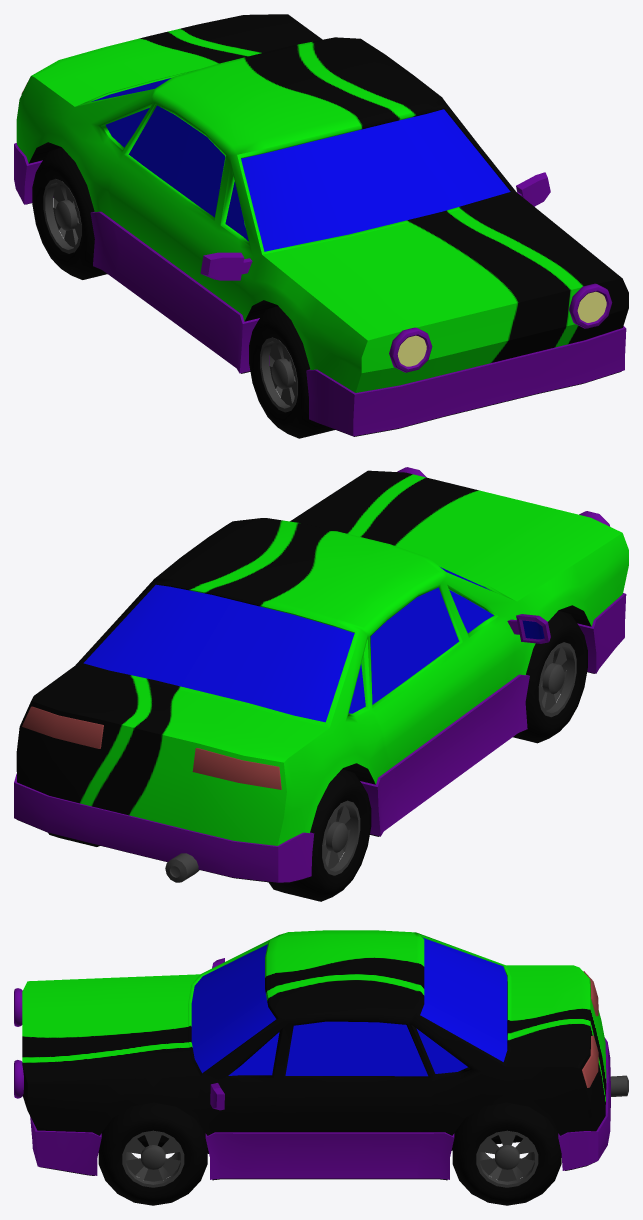
File: Muscle Evolution1 Purple WaveBlackGreen Blue DarkGrey.glb
The picture shows the model from 3 angles, top to bottom: view 1: azimuth 30°, elevation 25°; view 2: azimuth 150°, elevation 25°; view 3: azimuth 270°, elevation 25°; orthographic projection. The views are drawn at different scales.
Visible parts, largest first — view 1: evo1_body4_f1_dupl, evo1_sill0_f1_dupl, evo1_frontGlass_f1_dupl, evo1_glasseBigR_f1_dupl, evo1_tire_rf_f1_dupl, evo1_tire_rf1_f1_dupl, evo1_rim_A_rb_f1_dupl, evo1_rim_A_rf_f1_dupl, evo1_mirorR3_f1_dupl, evo1_blockLightR_f1_dupl, evo1_blockLightL_f1_dupl, evo1_mirorL3_f1_dupl (+4 smaller); view 2: evo1_body4_f1_dupl, evo1_sill0_f1_dupl, evo1_BackGlassGlass_f1_dupl, evo1_glasseBigR_f1_dupl, evo1_tire_rf_f1_dupl, evo1_tire_rf1_f1_dupl, evo1_rim_A_rf_f1_dupl, evo1_rim_A_rb_f1_dupl, evo1_redlightR2_f1_dupl, evo1_redlightL2_f1_dupl, evo1_glassfR_f1_dupl, evo1_pipe1_f1_dupl (+1 smaller); view 3: evo1_body4_f1_dupl, evo1_sill0_f1_dupl, evo1_BackGlassGlass_f1_dupl, evo1_glasseBigL_f1_dupl, evo1_frontGlass_f1_dupl, evo1_tire_lb_f1_dupl, evo1_tire_lf_f1_dupl, evo1_rim_A_lf_f1_dupl, evo1_rim_A_lb_f1_dupl, evo1_glassfL_f1_dupl, evo1_glassbL_f1_dupl, evo1_GroundBody_f1_dupl (+1 smaller).
Part boxes in pixels (x1=…): evo1_body4_f1_dupl: x1=16, y1=14, x2=628, y2=392; evo1_sill0_f1_dupl: x1=14, y1=143, x2=626, y2=436; evo1_frontGlass_f1_dupl: x1=241, y1=109, x2=510, y2=251; evo1_glasseBigR_f1_dupl: x1=128, y1=105, x2=225, y2=217; evo1_tire_rf_f1_dupl: x1=32, y1=147, x2=107, y2=279; evo1_tire_rf1_f1_dupl: x1=249, y1=306, x2=334, y2=438; evo1_rim_A_rb_f1_dupl: x1=43, y1=179, x2=81, y2=253; evo1_rim_A_rf_f1_dupl: x1=260, y1=337, x2=297, y2=412; evo1_mirorR3_f1_dupl: x1=200, y1=252, x2=252, y2=280; evo1_blockLightR_f1_dupl: x1=389, y1=327, x2=432, y2=372; evo1_blockLightL_f1_dupl: x1=569, y1=283, x2=612, y2=328; evo1_mirorL3_f1_dupl: x1=516, y1=172, x2=550, y2=206; evo1_body4_f1_dupl: x1=16, y1=470, x2=628, y2=845; evo1_sill0_f1_dupl: x1=14, y1=593, x2=626, y2=882; evo1_BackGlassGlass_f1_dupl: x1=83, y1=584, x2=354, y2=722; evo1_glasseBigR_f1_dupl: x1=370, y1=587, x2=458, y2=704; evo1_tire_rf_f1_dupl: x1=268, y1=769, x2=371, y2=901; evo1_tire_rf1_f1_dupl: x1=513, y1=610, x2=587, y2=743; evo1_rim_A_rf_f1_dupl: x1=538, y1=642, x2=576, y2=717; evo1_rim_A_rb_f1_dupl: x1=322, y1=800, x2=360, y2=875; evo1_redlightR2_f1_dupl: x1=192, y1=748, x2=281, y2=789; evo1_redlightL2_f1_dupl: x1=22, y1=706, x2=103, y2=748; evo1_glassfR_f1_dupl: x1=449, y1=590, x2=493, y2=632; evo1_pipe1_f1_dupl: x1=165, y1=853, x2=199, y2=882; evo1_body4_f1_dupl: x1=22, y1=930, x2=606, y2=1152; evo1_sill0_f1_dupl: x1=30, y1=1037, x2=610, y2=1179; evo1_BackGlassGlass_f1_dupl: x1=420, y1=937, x2=507, y2=1061; evo1_glasseBigL_f1_dupl: x1=285, y1=1021, x2=427, y2=1076; evo1_frontGlass_f1_dupl: x1=191, y1=944, x2=276, y2=1073; evo1_tire_lb_f1_dupl: x1=452, y1=1102, x2=561, y2=1205; evo1_tire_lf_f1_dupl: x1=98, y1=1102, x2=207, y2=1205; evo1_rim_A_lf_f1_dupl: x1=122, y1=1130, x2=184, y2=1187; evo1_rim_A_lb_f1_dupl: x1=476, y1=1130, x2=538, y2=1187; evo1_glassfL_f1_dupl: x1=228, y1=1032, x2=279, y2=1075; evo1_glassbL_f1_dupl: x1=416, y1=1028, x2=467, y2=1073; evo1_GroundBody_f1_dupl: x1=40, y1=1140, x2=594, y2=1180.
Size of the model in its own units: 177 by 112 by 331.
7 materials, 1 textured.
